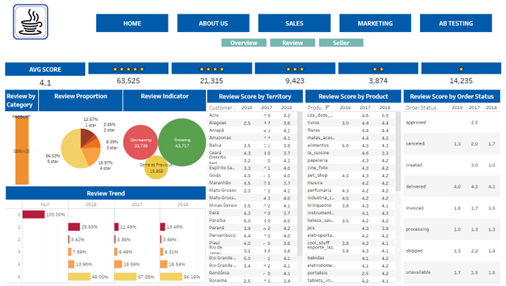

The dashboard page shown, as its layout file describes it:
{"tool":"tableau","page":{"name":"SALES Review","canvas":[1366,768],"ordinal":4},"visuals":[{"type":"image","param":"C:/Users/artanggoro/Downloads/PACMANN PLBI 2 - JAVA TEAM ECOMMERCE.twb Files/Ima","box":[0,0,1366,768]},{"type":"dashboard-object","box":[250,33,216,72]},{"type":"dashboard-object","box":[466,33,216,72]},{"type":"dashboard-object","box":[682,33,216,72]},{"type":"dashboard-object","box":[898,33,215,72]},{"type":"dashboard-object","box":[1113,33,215,72]},{"type":"dashboard-object","box":[590,105,130,32]},{"type":"dashboard-object","box":[720,105,130,32]},{"type":"dashboard-object","box":[850,105,129,32]},{"type":"worksheet","title":"SR - Avg Rating","mark":"Automatic","box":[15,170,222,72]},{"type":"worksheet","title":"five","mark":"Automatic","box":[237,170,222,72]},{"type":"worksheet","title":"Four","mark":"Automatic","box":[459,170,222,72]},{"type":"worksheet","title":"Three","mark":"Automatic","box":[681,170,222,72]},{"type":"worksheet","title":"two","mark":"Automatic","box":[903,170,221,72]},{"type":"worksheet","title":"one","mark":"Automatic","box":[1124,170,221,72]},{"type":"worksheet","title":"Review by Category","mark":"Automatic","rows":["review_id"],"box":[19,246,90,254]},{"type":"worksheet","title":"Review Proportion","mark":"Pie","box":[109,246,223,254]},{"type":"worksheet","title":"Review Indicator","mark":"Circle","box":[332,246,223,254]},{"type":"worksheet","title":"Review Score by Territory","mark":"Automatic","rows":["Calculation_1329969318218145794"],"cols":["review_answer_timestamp"],"box":[555,246,262,515]},{"type":"worksheet","title":"Review Score by Product","mark":"Automatic","cols":["review_answer_timestamp"],"box":[817,246,262,515]},{"type":"worksheet","title":"Review Score by Order Status","mark":"Automatic","rows":["order_status"],"cols":["review_answer_timestamp"],"box":[1079,246,262,515]},{"type":"worksheet","title":"Review Trend","mark":"Bar","rows":["Review Score (bin)"],"cols":["review_answer_timestamp","review_score"],"box":[19,504,536,257]}]}

Visuals, with their boxes in screenshot pixels (x1, y1, x2, y2), scaled from the page's 1366x768 canvas onto the 506x286 screenshot:
image: (0, 0, 505, 285)
dashboard-object: (93, 12, 173, 39)
dashboard-object: (173, 12, 253, 39)
dashboard-object: (253, 12, 333, 39)
dashboard-object: (333, 12, 412, 39)
dashboard-object: (412, 12, 492, 39)
dashboard-object: (219, 39, 267, 51)
dashboard-object: (267, 39, 315, 51)
dashboard-object: (315, 39, 363, 51)
"SR - Avg Rating" worksheet: (6, 63, 88, 90)
"five" worksheet: (88, 63, 170, 90)
"Four" worksheet: (170, 63, 252, 90)
"Three" worksheet: (252, 63, 334, 90)
"two" worksheet: (334, 63, 416, 90)
"one" worksheet: (416, 63, 498, 90)
"Review by Category" worksheet: (7, 92, 40, 186)
"Review Proportion" worksheet (Pie marks): (40, 92, 123, 186)
"Review Indicator" worksheet (Circle marks): (123, 92, 206, 186)
"Review Score by Territory" worksheet: (206, 92, 303, 283)
"Review Score by Product" worksheet: (303, 92, 400, 283)
"Review Score by Order Status" worksheet: (400, 92, 497, 283)
"Review Trend" worksheet (Bar marks): (7, 188, 206, 283)
